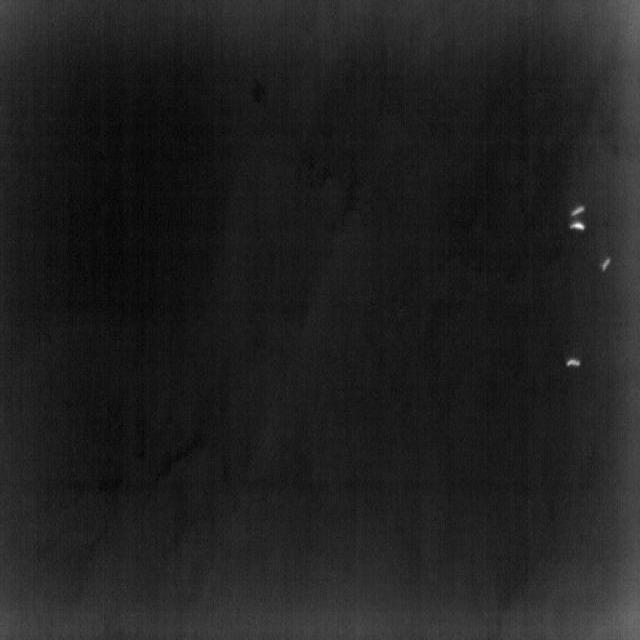deer: (571, 205, 585, 216), (569, 222, 586, 231), (601, 258, 611, 271), (566, 358, 580, 367)
